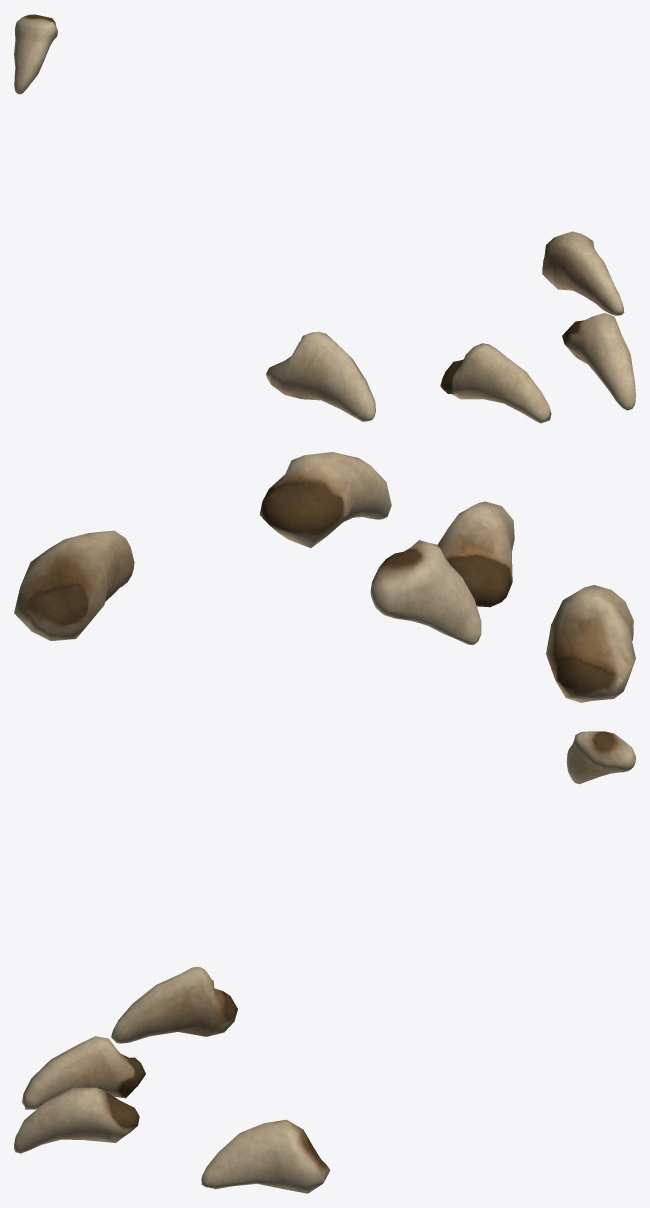
File: Distal Phalanges.glb
3 views of the same model, one above another, from view 1: azimuth 30°, elevation 25°; view 2: azimuth 150°, elevation 25°; view 3: azimuth 270°, elevation 25° (orthographic). The views are drawn at different scales.
Visible parts, largest first — view 1: polySurface19, polySurface20, polySurface22, polySurface21, polySurface18; view 2: polySurface22, polySurface21, polySurface19, polySurface18, polySurface20; view 3: polySurface22, polySurface19, polySurface21, polySurface20, polySurface18.
Boxes of the visible parts, box(x1,y1,x2,y2) form: polySurface19: box(266, 331, 375, 421); polySurface20: box(440, 343, 551, 423); polySurface22: box(542, 231, 624, 315); polySurface21: box(562, 313, 635, 410); polySurface18: box(14, 14, 57, 94); polySurface22: box(14, 530, 134, 640); polySurface21: box(259, 452, 391, 548); polySurface19: box(546, 585, 635, 702); polySurface18: box(370, 540, 481, 644); polySurface20: box(437, 501, 514, 607); polySurface22: box(201, 1119, 330, 1193); polySurface19: box(111, 967, 237, 1043); polySurface21: box(14, 1087, 139, 1153); polySurface20: box(22, 1036, 145, 1109); polySurface18: box(566, 731, 635, 784).
Bounding box in the file's own units: 54.56 × 30.64 × 64.95.
Materials: 1 (1 with a texture image).
